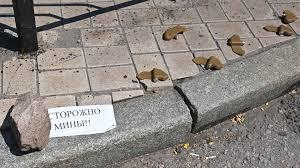PMF 1: (191, 56, 225, 70), (137, 68, 168, 83), (162, 24, 187, 41), (264, 23, 292, 37), (228, 33, 245, 55), (280, 10, 297, 23)
